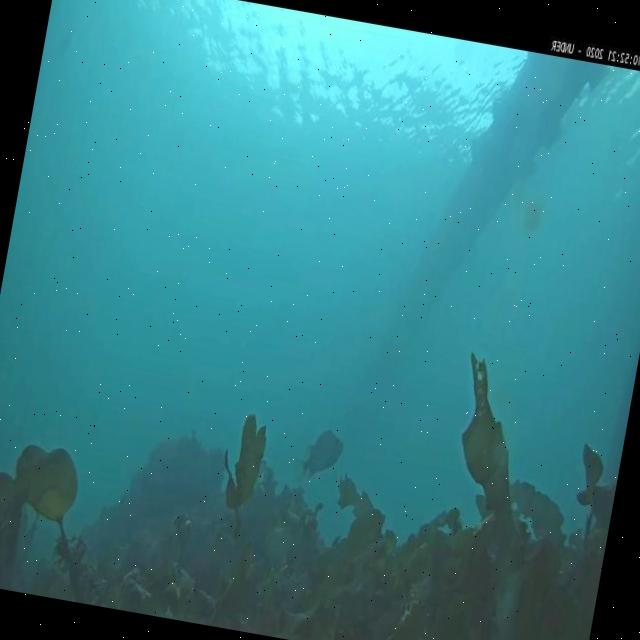fish: (298, 427, 347, 484)
